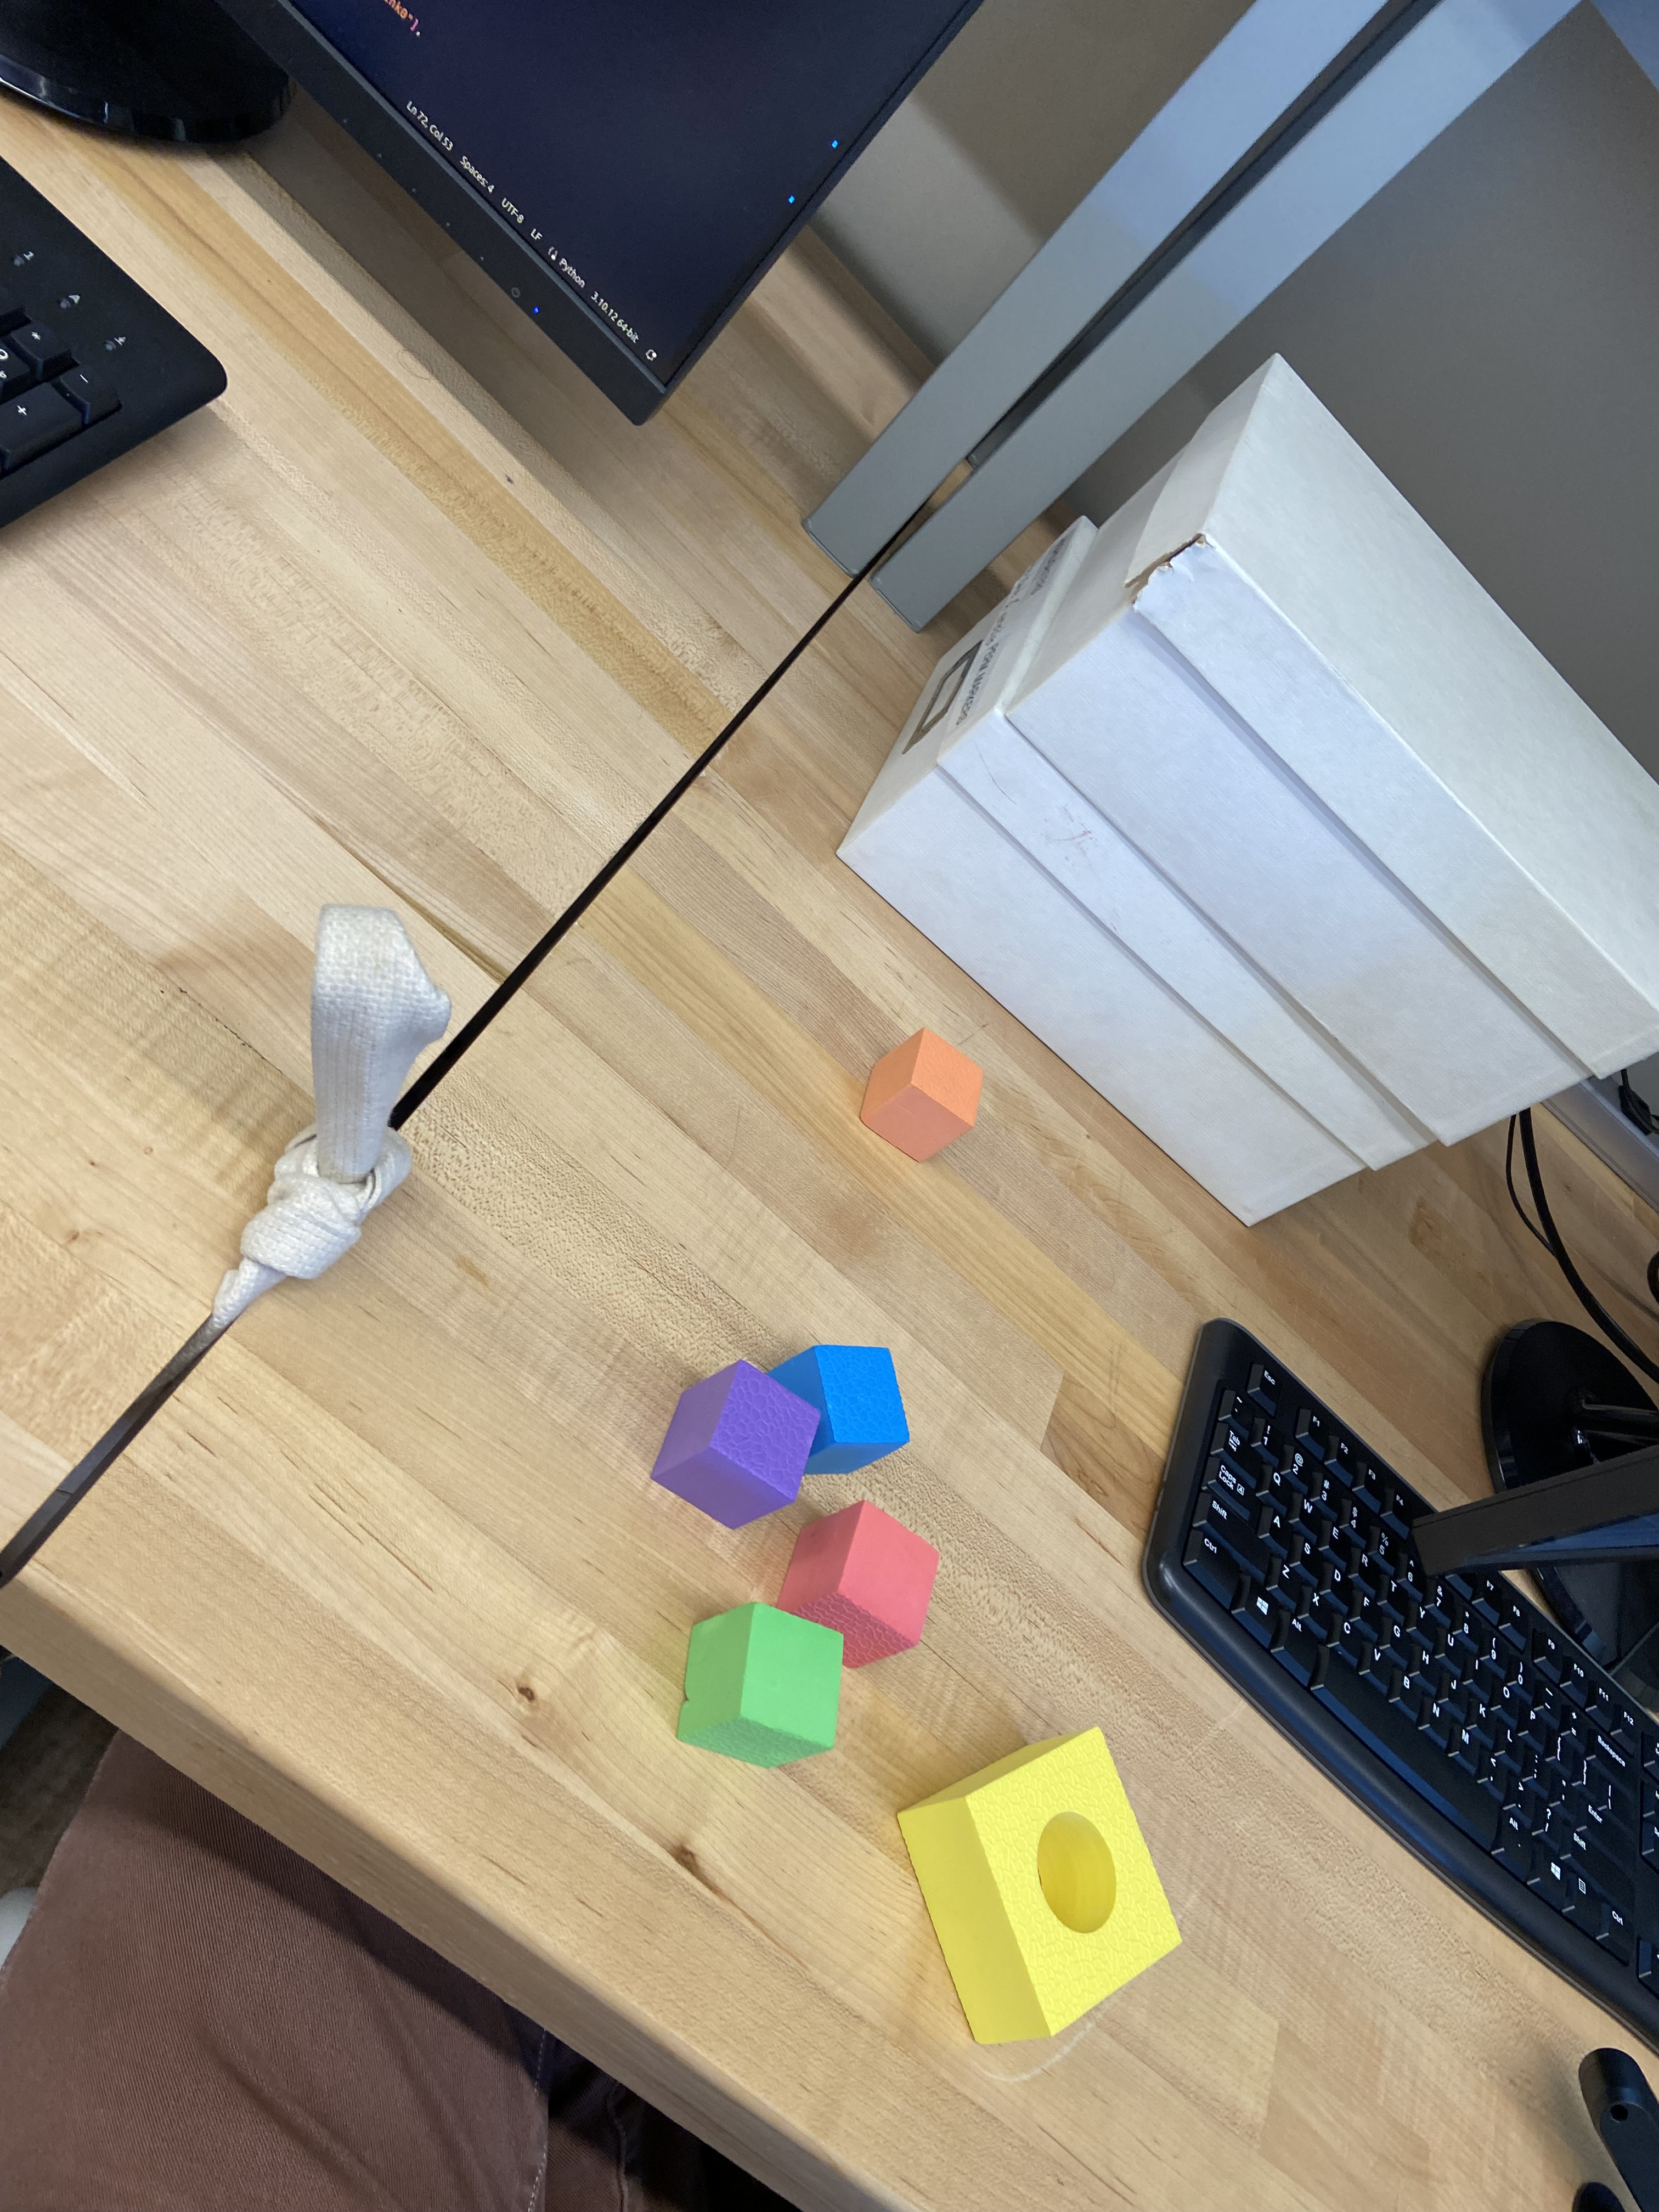Cube: (681, 1604, 843, 1764), (652, 1367, 810, 1519), (782, 1510, 943, 1646), (861, 1031, 983, 1157), (800, 1339, 913, 1467)
